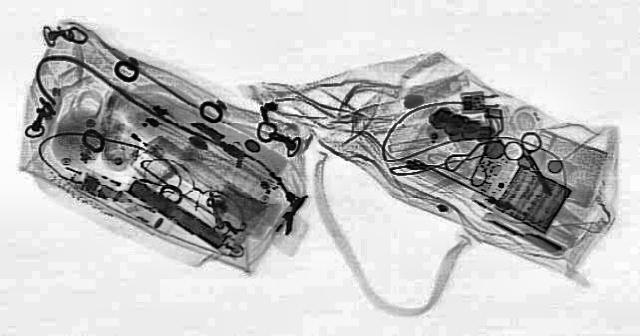Scissors: (488, 130, 574, 198)
